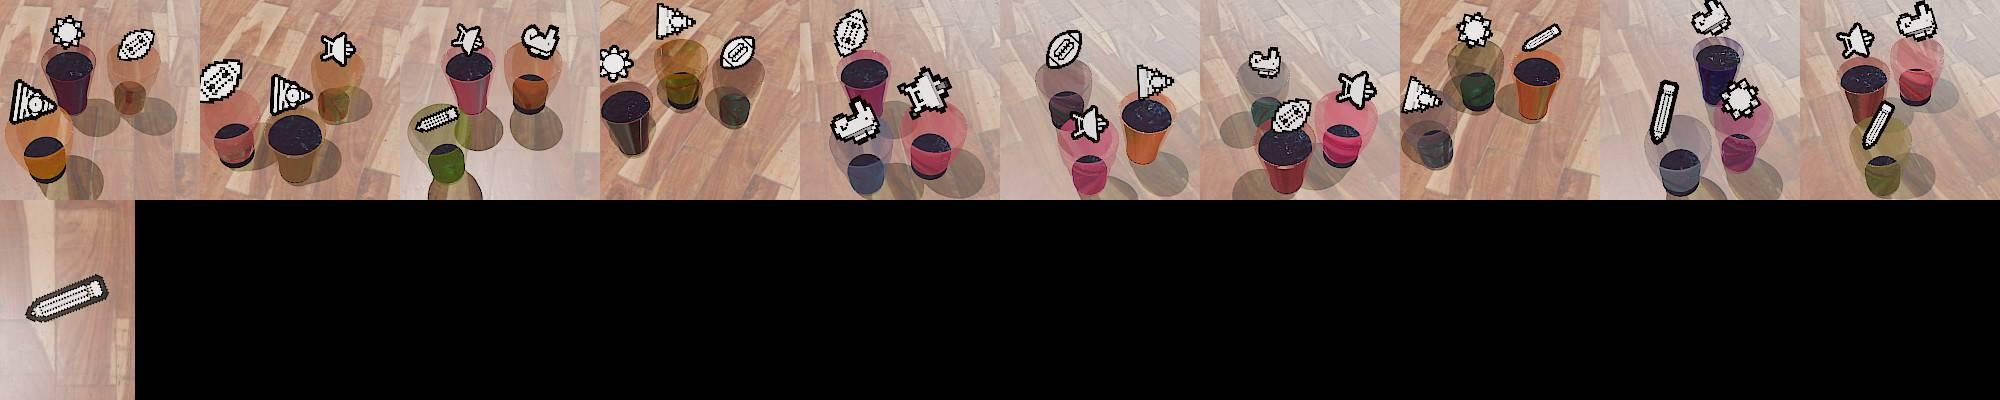icon: (23, 274, 109, 323), (897, 64, 954, 115), (831, 96, 880, 143), (8, 78, 57, 125), (1649, 77, 1680, 147), (198, 58, 244, 105), (268, 72, 314, 116), (1718, 77, 1763, 120), (833, 9, 870, 57), (1860, 99, 1895, 149), (1897, 0, 1937, 42), (1136, 62, 1176, 103), (1335, 70, 1376, 110), (1070, 102, 1110, 143), (1271, 96, 1313, 135), (1044, 29, 1083, 71), (656, 3, 697, 42), (1402, 74, 1440, 115), (1690, 0, 1732, 36), (521, 23, 561, 60), (1836, 22, 1875, 59), (1456, 11, 1493, 49), (719, 34, 756, 71), (1521, 22, 1563, 54), (598, 44, 633, 82), (320, 31, 355, 68), (117, 28, 155, 62), (413, 104, 459, 132), (451, 23, 486, 57), (51, 15, 85, 49), (1248, 46, 1283, 79)
